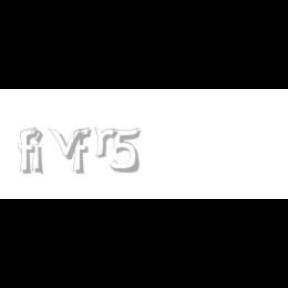5: (110, 128, 140, 174)
f: (18, 128, 42, 174), (71, 128, 95, 174)
i: (31, 128, 47, 176)
r: (94, 128, 120, 158)
v: (48, 128, 88, 160)
